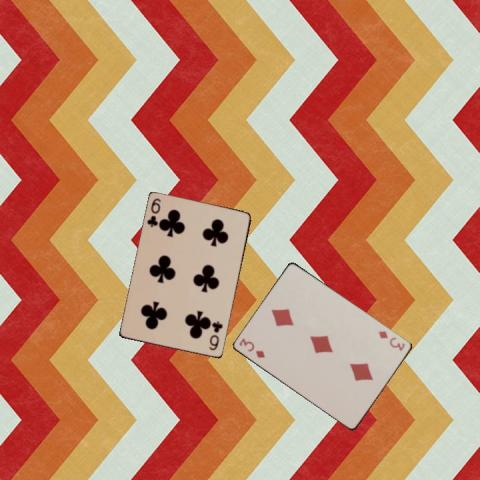3d: (375, 328, 407, 352), (236, 335, 267, 359)
6c: (144, 195, 163, 229), (206, 319, 224, 352)
